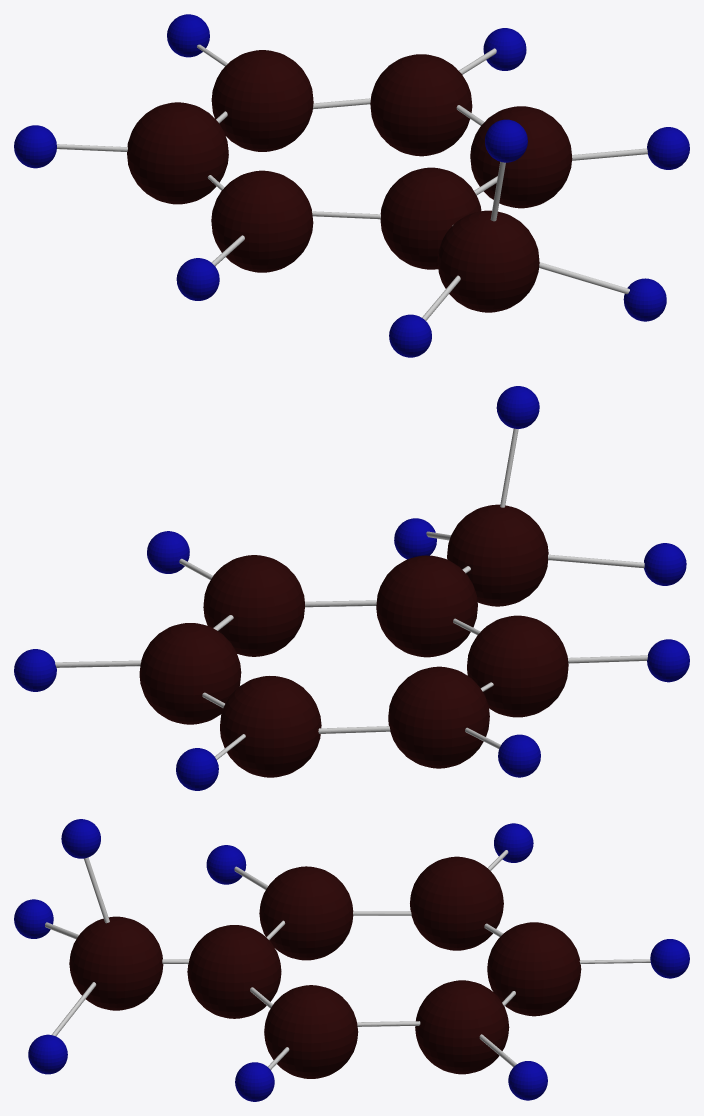
3 renders of one model, top to bottom at view 1: azimuth 30°, elevation 25°; view 2: azimuth 150°, elevation 25°; view 3: azimuth 270°, elevation 25°, orthographic. The views are drawn at different scales.
Visible parts, largest first — view 1: Sphere.008, Sphere.007, Sphere.005, Sphere.006, Sphere.009, Sphere.012, Sphere.004, Sphere.011, Sphere.014, Sphere, Sphere.010, Sphere.002 (+4 smaller); view 2: Sphere.012, Sphere.008, Sphere.005, Sphere.007, Sphere.006, Sphere.004, Sphere.009, Sphere.010, Sphere, Sphere.011, Sphere.001, Sphere.014 (+3 smaller); view 3: Sphere.008, Sphere.004, Sphere.005, Sphere.009, Sphere.006, Sphere.012, Sphere.007, Sphere.002, Sphere.003, Sphere.001, Sphere.014, Sphere.013 (+3 smaller).
Part boxes in pixels (x1,y1,x2,y2): Sphere.008: (127, 102, 228, 204); Sphere.007: (370, 54, 472, 156); Sphere.005: (211, 50, 313, 151); Sphere.006: (211, 170, 313, 272); Sphere.009: (437, 210, 539, 312); Sphere.012: (380, 167, 481, 269); Sphere.004: (470, 106, 572, 208); Sphere.011: (389, 314, 431, 357); Sphere.014: (485, 119, 527, 162); Sphere: (176, 258, 219, 300); Sphere.010: (14, 125, 56, 168); Sphere.002: (647, 127, 689, 169); Sphere.012: (376, 555, 477, 657); Sphere.008: (388, 666, 489, 768); Sphere.005: (220, 676, 321, 777); Sphere.007: (139, 623, 241, 724); Sphere.006: (467, 615, 568, 717); Sphere.004: (203, 555, 304, 656); Sphere.009: (447, 504, 548, 606); Sphere.010: (498, 734, 540, 777); Sphere: (647, 639, 689, 682); Sphere.011: (644, 543, 686, 585); Sphere.001: (176, 748, 218, 790); Sphere.014: (496, 386, 539, 428); Sphere.008: (410, 856, 503, 950); Sphere.004: (264, 985, 358, 1078); Sphere.005: (487, 922, 581, 1016); Sphere.009: (69, 916, 163, 1010); Sphere.006: (259, 866, 353, 960); Sphere.012: (187, 925, 281, 1018); Sphere.007: (415, 980, 509, 1074); Sphere.002: (235, 1062, 274, 1101); Sphere.003: (508, 1061, 547, 1100); Sphere.001: (650, 939, 689, 978); Sphere.014: (61, 819, 100, 858); Sphere.013: (28, 1034, 67, 1074).
Bounding box in the file's own units: 13.11 × 5.07 × 15.73.
